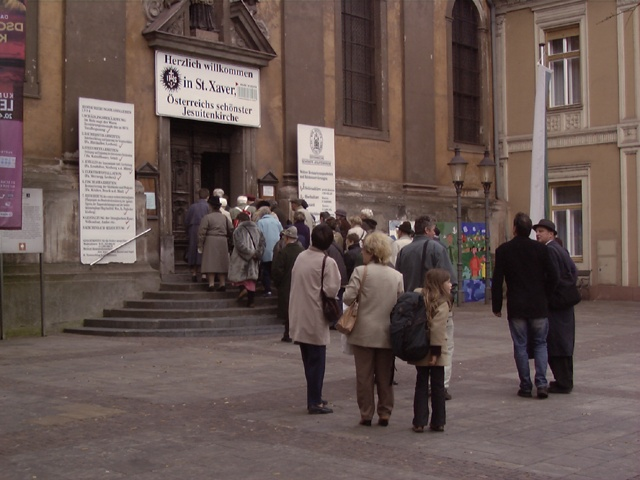person: (483, 209, 563, 401), (344, 232, 405, 426), (292, 219, 340, 415), (406, 266, 458, 432)
